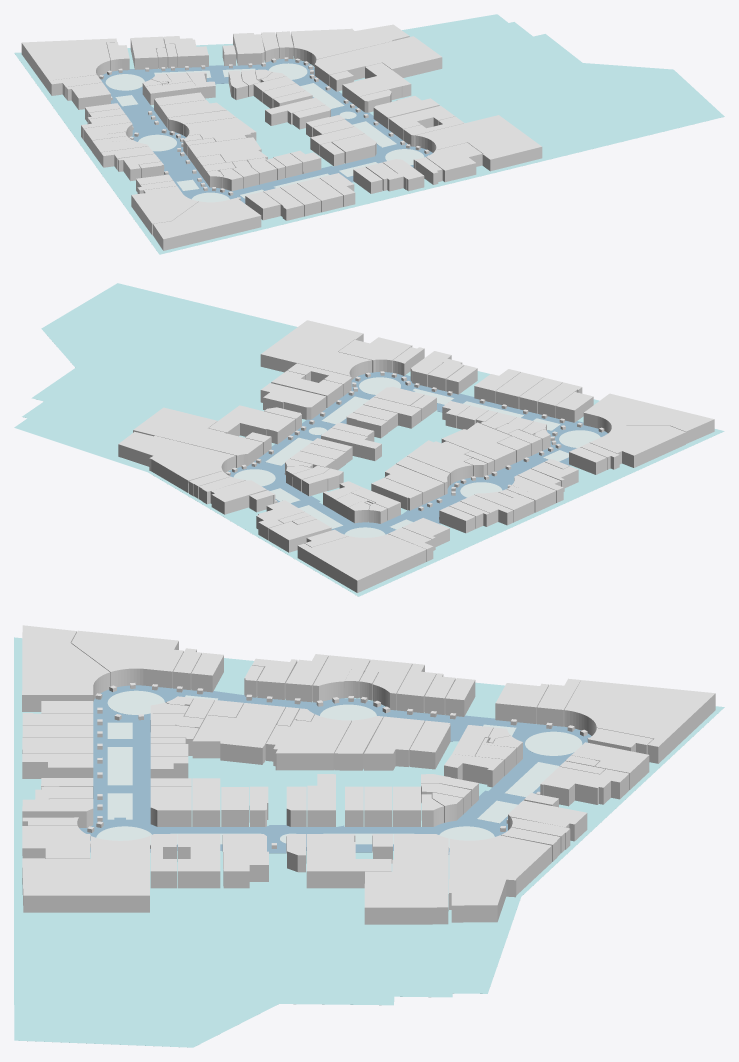
File: PTA_FLoor_01.gltf
3 renders of one model, top to bottom at view 1: azimuth 30°, elevation 25°; view 2: azimuth 150°, elevation 25°; view 3: azimuth 270°, elevation 25°, orthographic. The views are drawn at different scales.
Parts seen in each view (by area): view 1: Floor, Walkable, Area, Shop_01_P132, Shop_01_P147-148, Shop_01_P122-123, Shop_01_P109, Shop_01_P121, Shop_01_P149-150, Shop_01_P125, Shop_01_P133, Shop_01_P242 (+45 smaller); view 2: Floor, Walkable, Area, Shop_01_P109, Shop_01_P132, Shop_01_P121, Shop_01_P122-123, Shop_01_P147-148, Shop_01_P149-150, Shop_01_P125, Shop_01_P242, Shop_01_P201 (+35 smaller); view 3: Floor, Walkable, Area, Shop_01_P132, Shop_01_P109, Shop_01_P121, Shop_01_P122-123, Shop_01_P147-148, Shop_01_P149-150, Shop_01_P242, Shop_01_P201, Shop_01_P125 (+47 smaller).
Part boxes in pixels (x1,y1,x2,y2): Floor: (14, 14, 724, 254); Walkable: (100, 59, 432, 203); Area: (105, 63, 424, 202); Shop_01_P132: (415, 115, 542, 171); Shop_01_P147-148: (153, 198, 261, 250); Shop_01_P122-123: (314, 36, 442, 86); Shop_01_P109: (21, 38, 116, 91); Shop_01_P121: (291, 24, 409, 66); Shop_01_P149-150: (131, 186, 198, 235); Shop_01_P125: (342, 63, 411, 107); Shop_01_P133: (426, 142, 482, 182); Shop_01_P242: (188, 137, 267, 168); Floor: (14, 283, 724, 596); Walkable: (228, 372, 607, 534); Area: (233, 377, 600, 537); Shop_01_P109: (297, 534, 426, 592); Shop_01_P132: (260, 320, 371, 379); Shop_01_P121: (118, 431, 235, 492); Shop_01_P122-123: (133, 407, 263, 467); Shop_01_P147-148: (583, 393, 714, 443); Shop_01_P149-150: (589, 425, 685, 467); Shop_01_P125: (208, 405, 295, 444); Shop_01_P242: (441, 422, 515, 471); Shop_01_P201: (407, 440, 472, 484); Floor: (14, 637, 724, 1047); Walkable: (79, 685, 591, 854); Area: (96, 690, 582, 847); Shop_01_P132: (22, 836, 149, 912); Shop_01_P109: (564, 680, 715, 763); Shop_01_P121: (449, 835, 551, 922); Shop_01_P122-123: (364, 834, 448, 924); Shop_01_P147-148: (22, 625, 110, 711); Shop_01_P149-150: (71, 630, 183, 688); Shop_01_P242: (192, 703, 285, 764); Shop_01_P201: (266, 714, 351, 770); Shop_01_P125: (306, 834, 391, 888).
Bounding box in the file's own units: 27073 × 558 × 19827.
